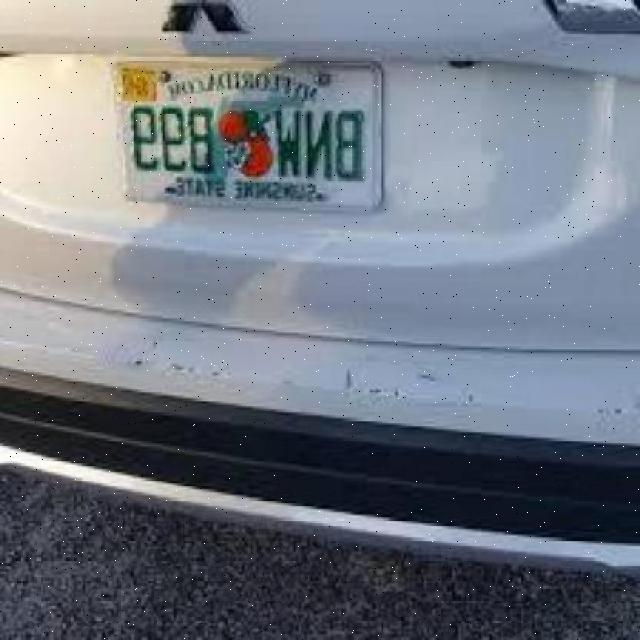damage: (109, 335, 629, 422)
